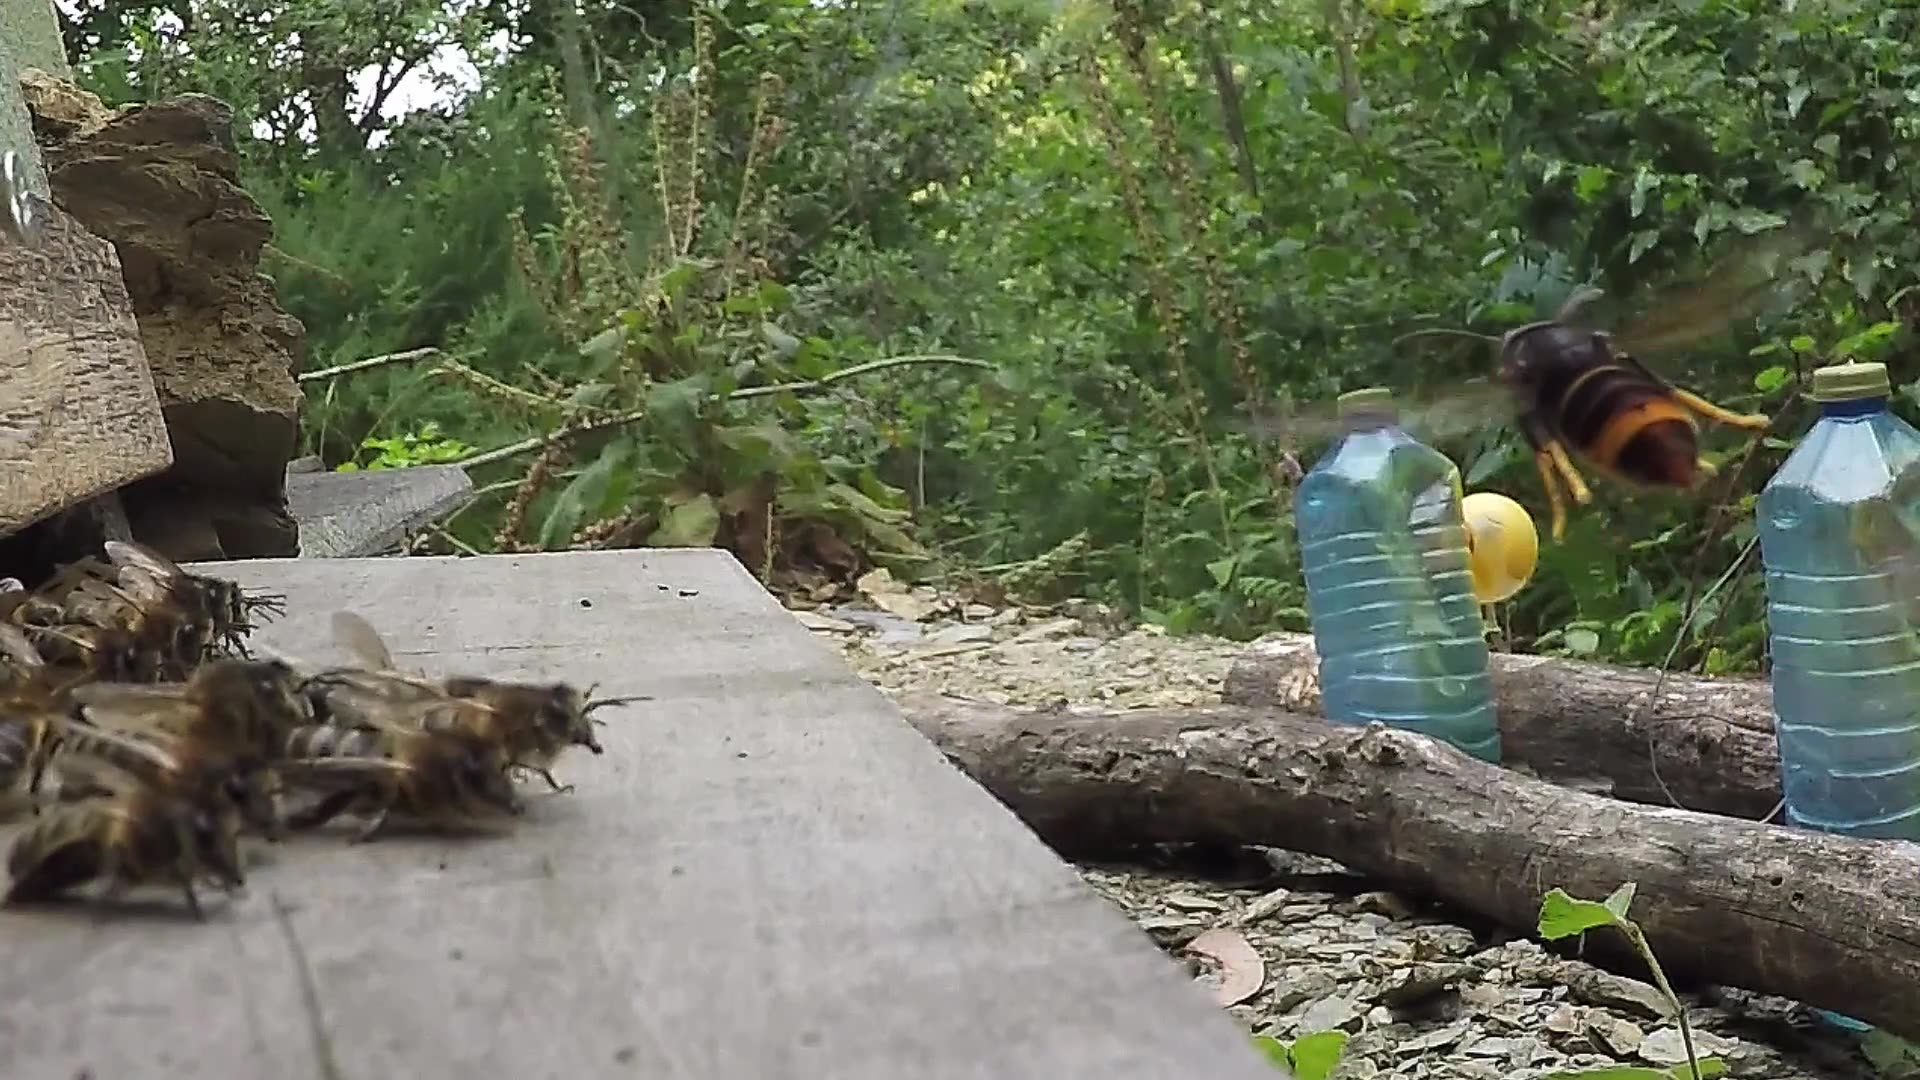bee: (281, 632, 616, 837), (32, 669, 270, 916), (18, 545, 280, 687)
hornet: (1447, 280, 1716, 498)
